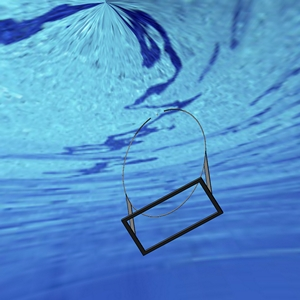circle: (119, 106, 226, 256)
